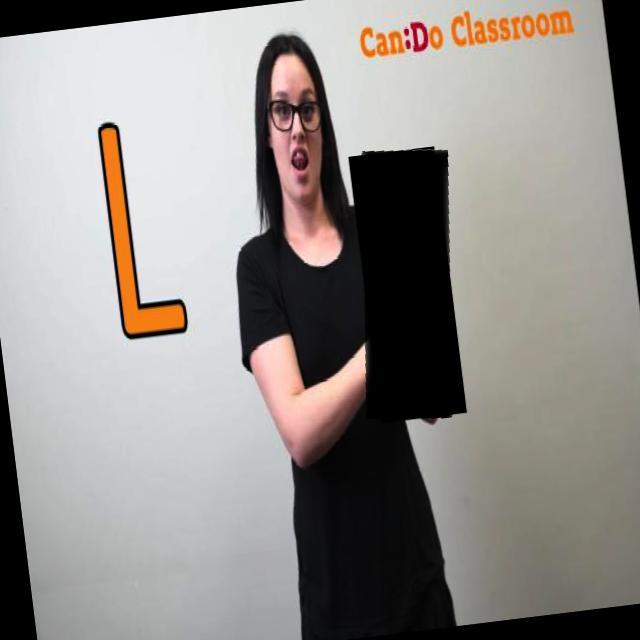L: (342, 143, 474, 426)
